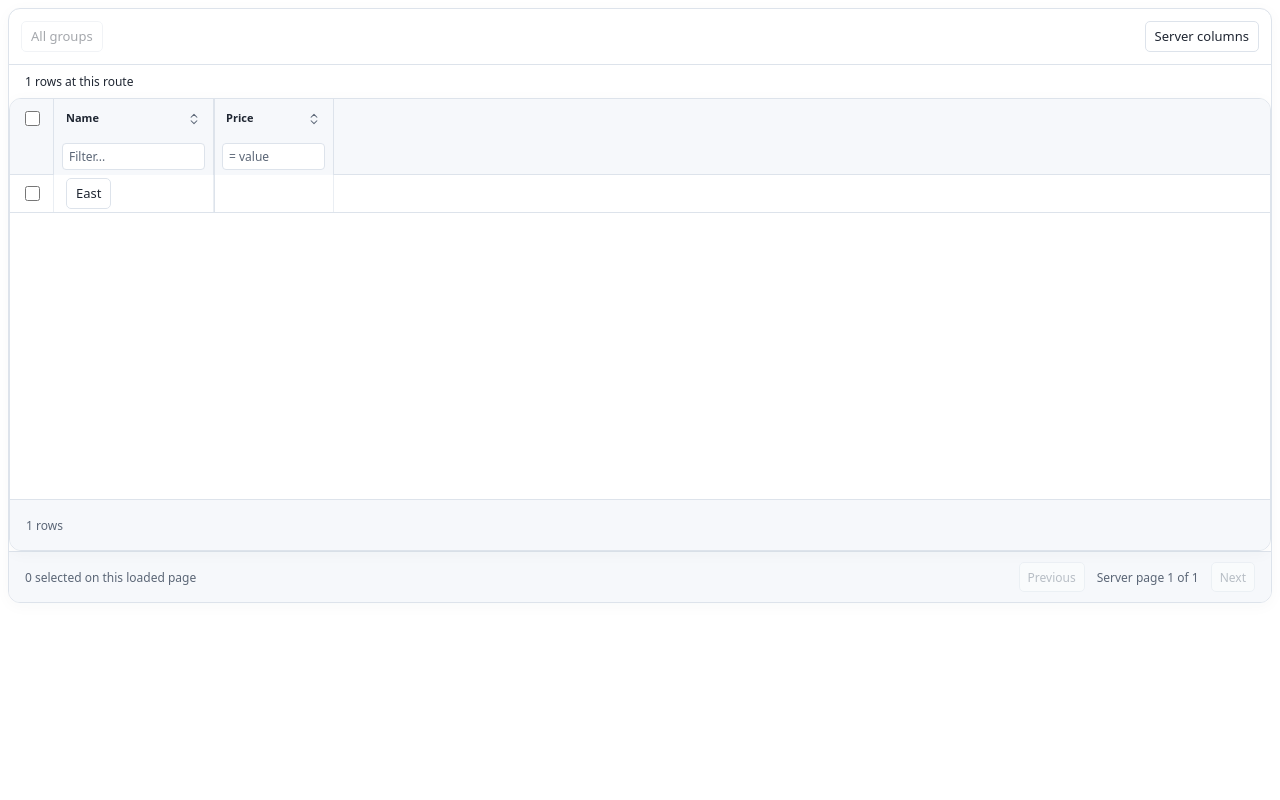
Test case: server-authoritative React block binding › does not transfer loaded-page selection between routes that reuse a node ID
Expected: the button with aria-label "Open group East" is shown, [66,178,112,209]
Click the checkbox named "Select row same" at [32, 194], box [24,186,40,201]
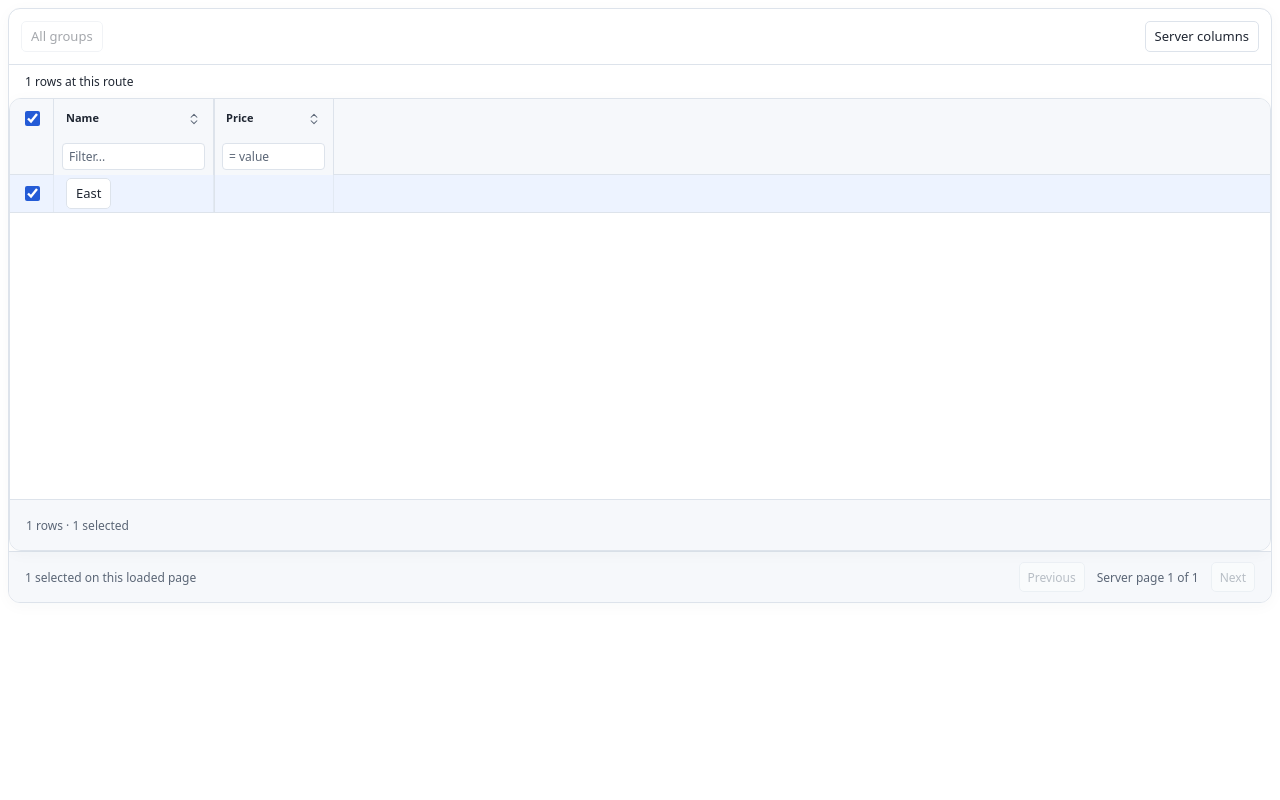
Expected: the text "1 selected on this loaded page" is shown, [25,569,196,586]
Click the button with aria-label "Open group East" at [89, 194], box [66,178,112,209]
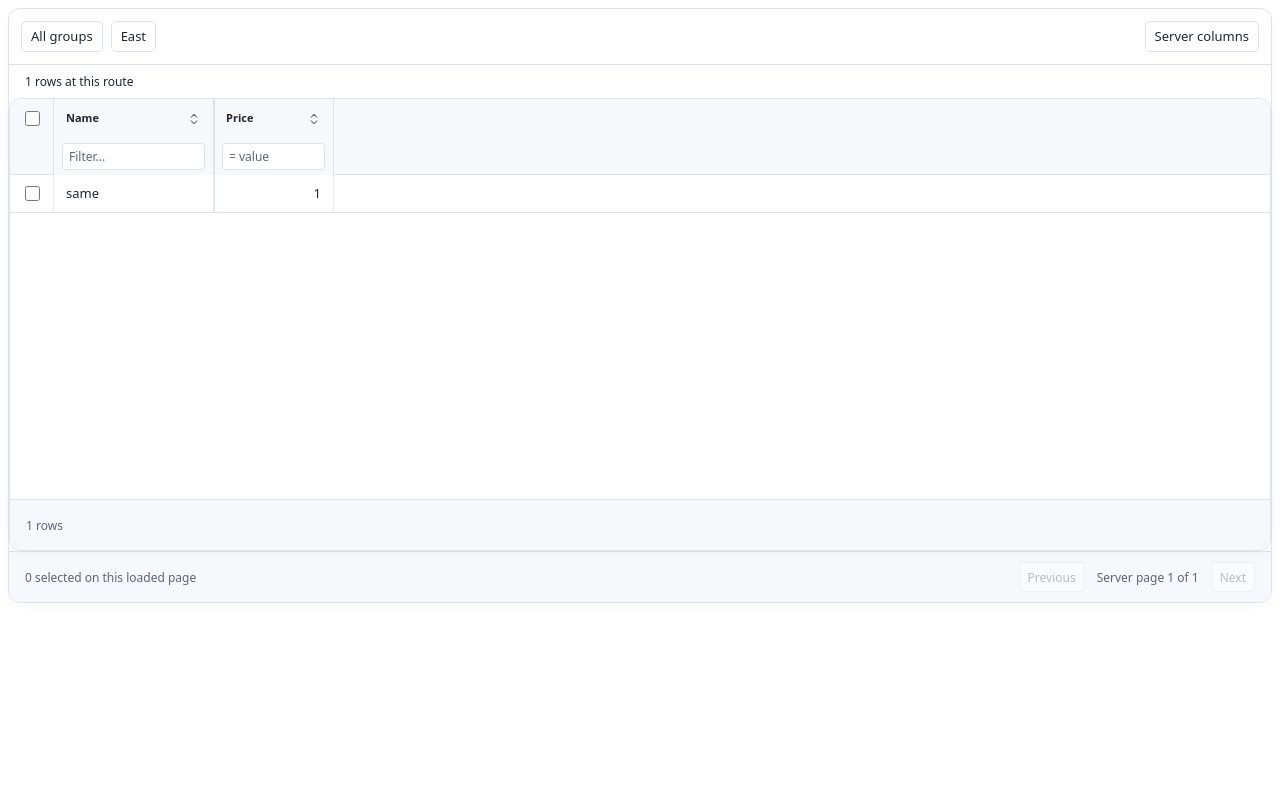
Expected: the cell "same" is shown, [54,175,214,212]
Expected: the text "0 selected on this loaded page" is shown, [25,569,196,586]
